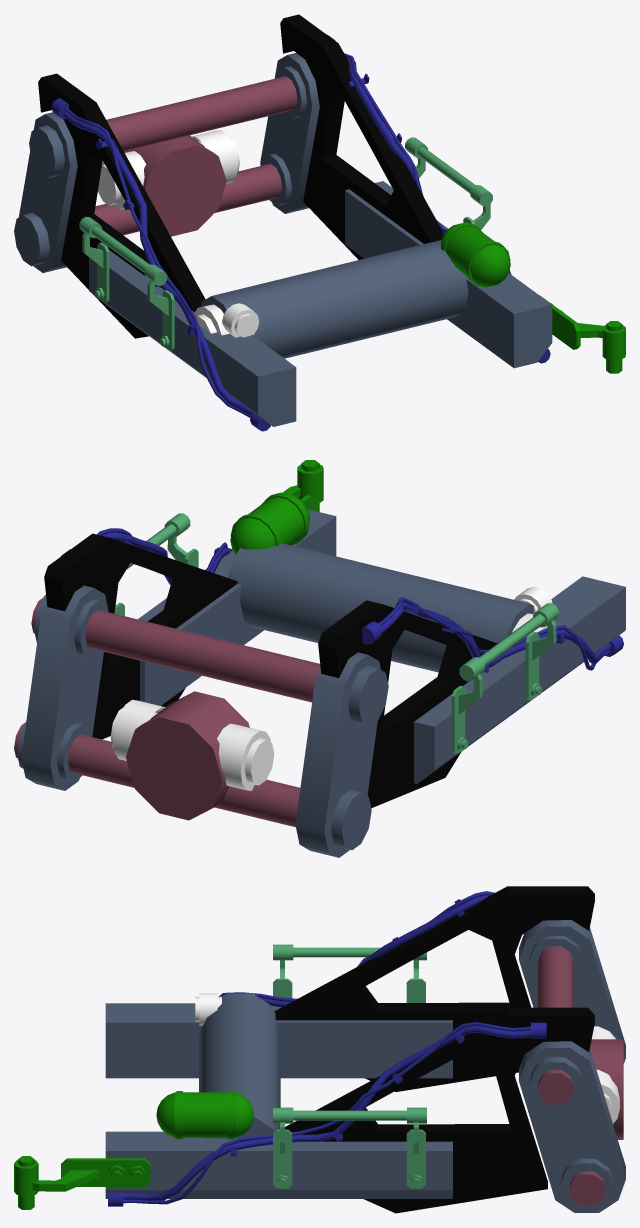
File: mech 1 static lod0.FBX
3 renders of one model, top to bottom at view 1: azimuth 30°, elevation 25°; view 2: azimuth 150°, elevation 25°; view 3: azimuth 270°, elevation 25°, orthographic. The views are drawn at different scales.
Visible parts, largest first — view 1: Object037; view 2: Object037; view 3: Object037.
Boxes of the visible parts, x1,y1,x2,y2 form: Object037: (14,14,625,431); Object037: (14,460,625,857); Object037: (14,886,625,1213).
Size of the model in its own units: 2.07 by 1.08 by 3.02.
